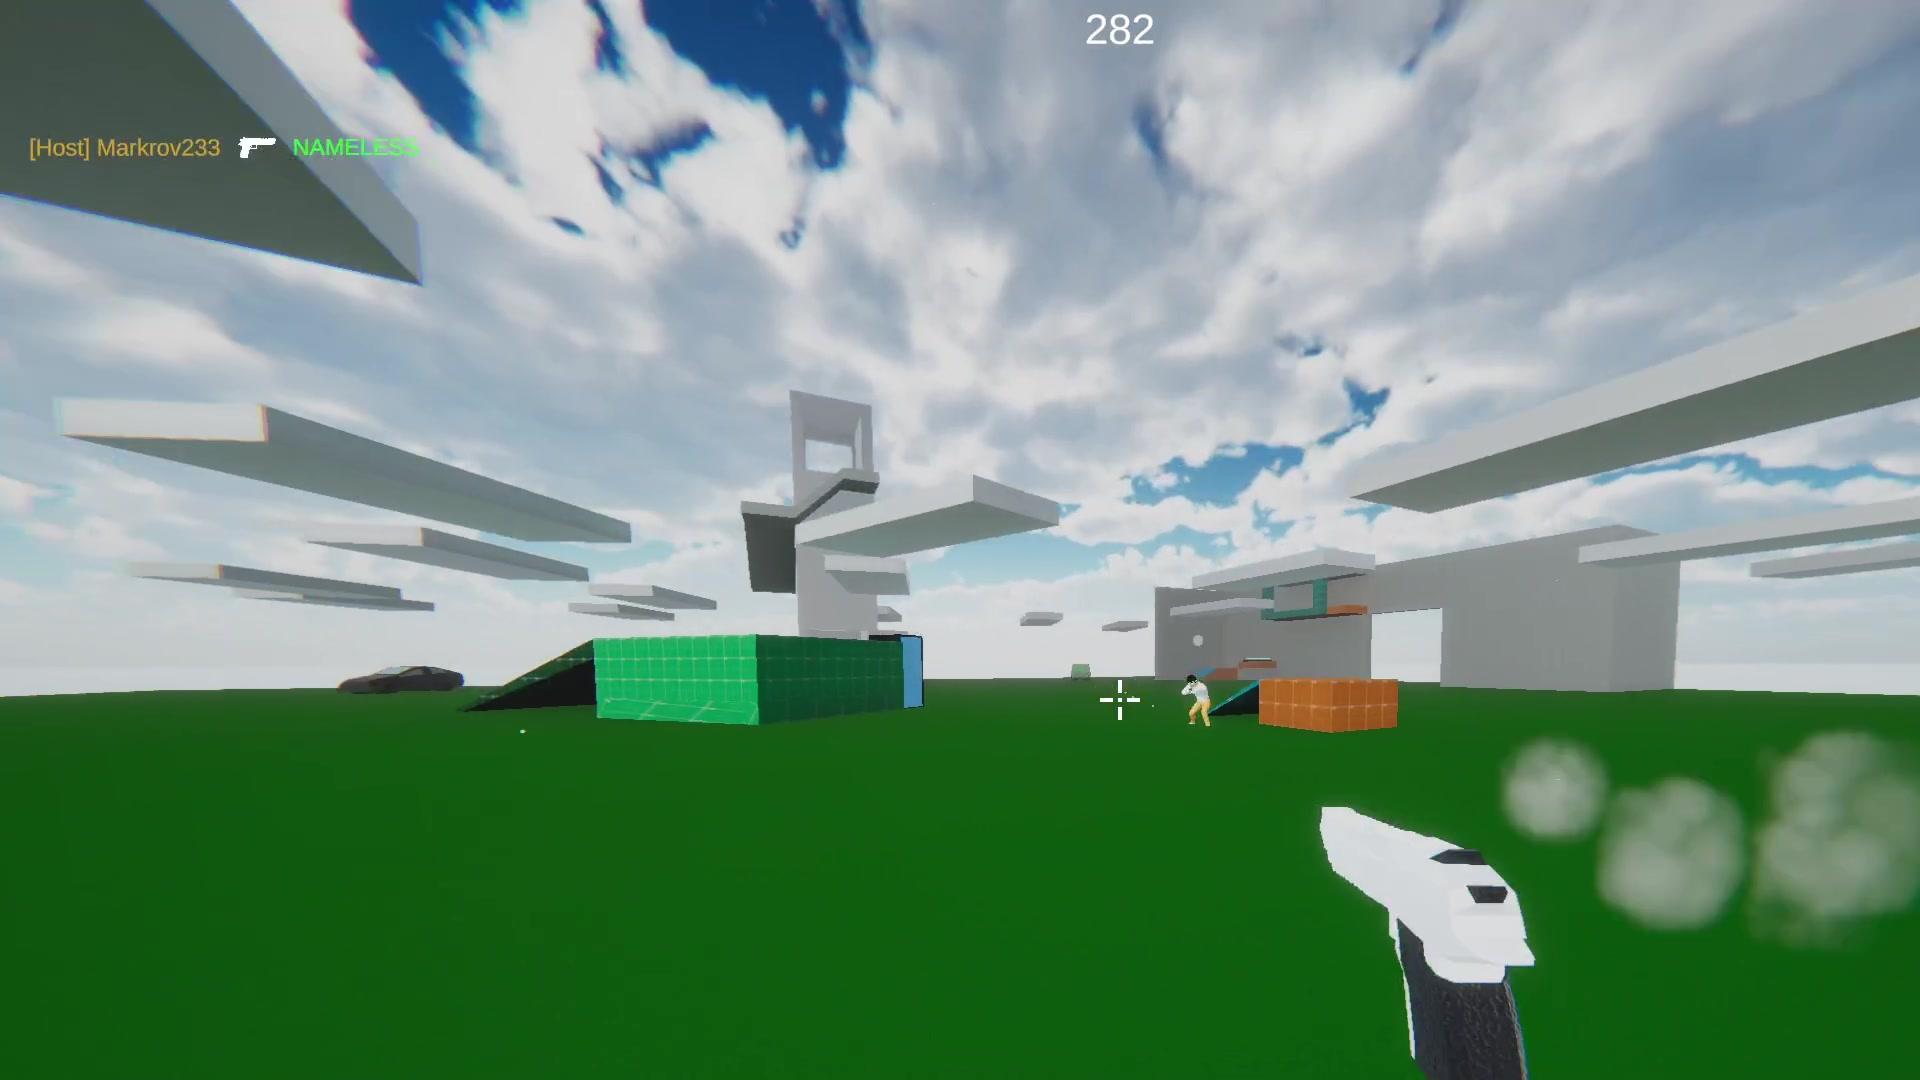human: (1187, 673, 1208, 719)
